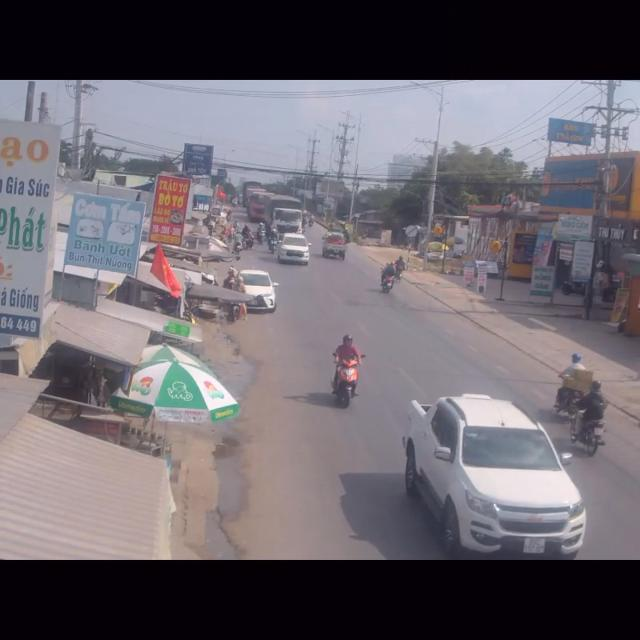car: (396, 388, 585, 556), (234, 266, 279, 316)
motorbike: (570, 380, 604, 459), (332, 334, 362, 412), (557, 350, 583, 414), (379, 259, 394, 296)
